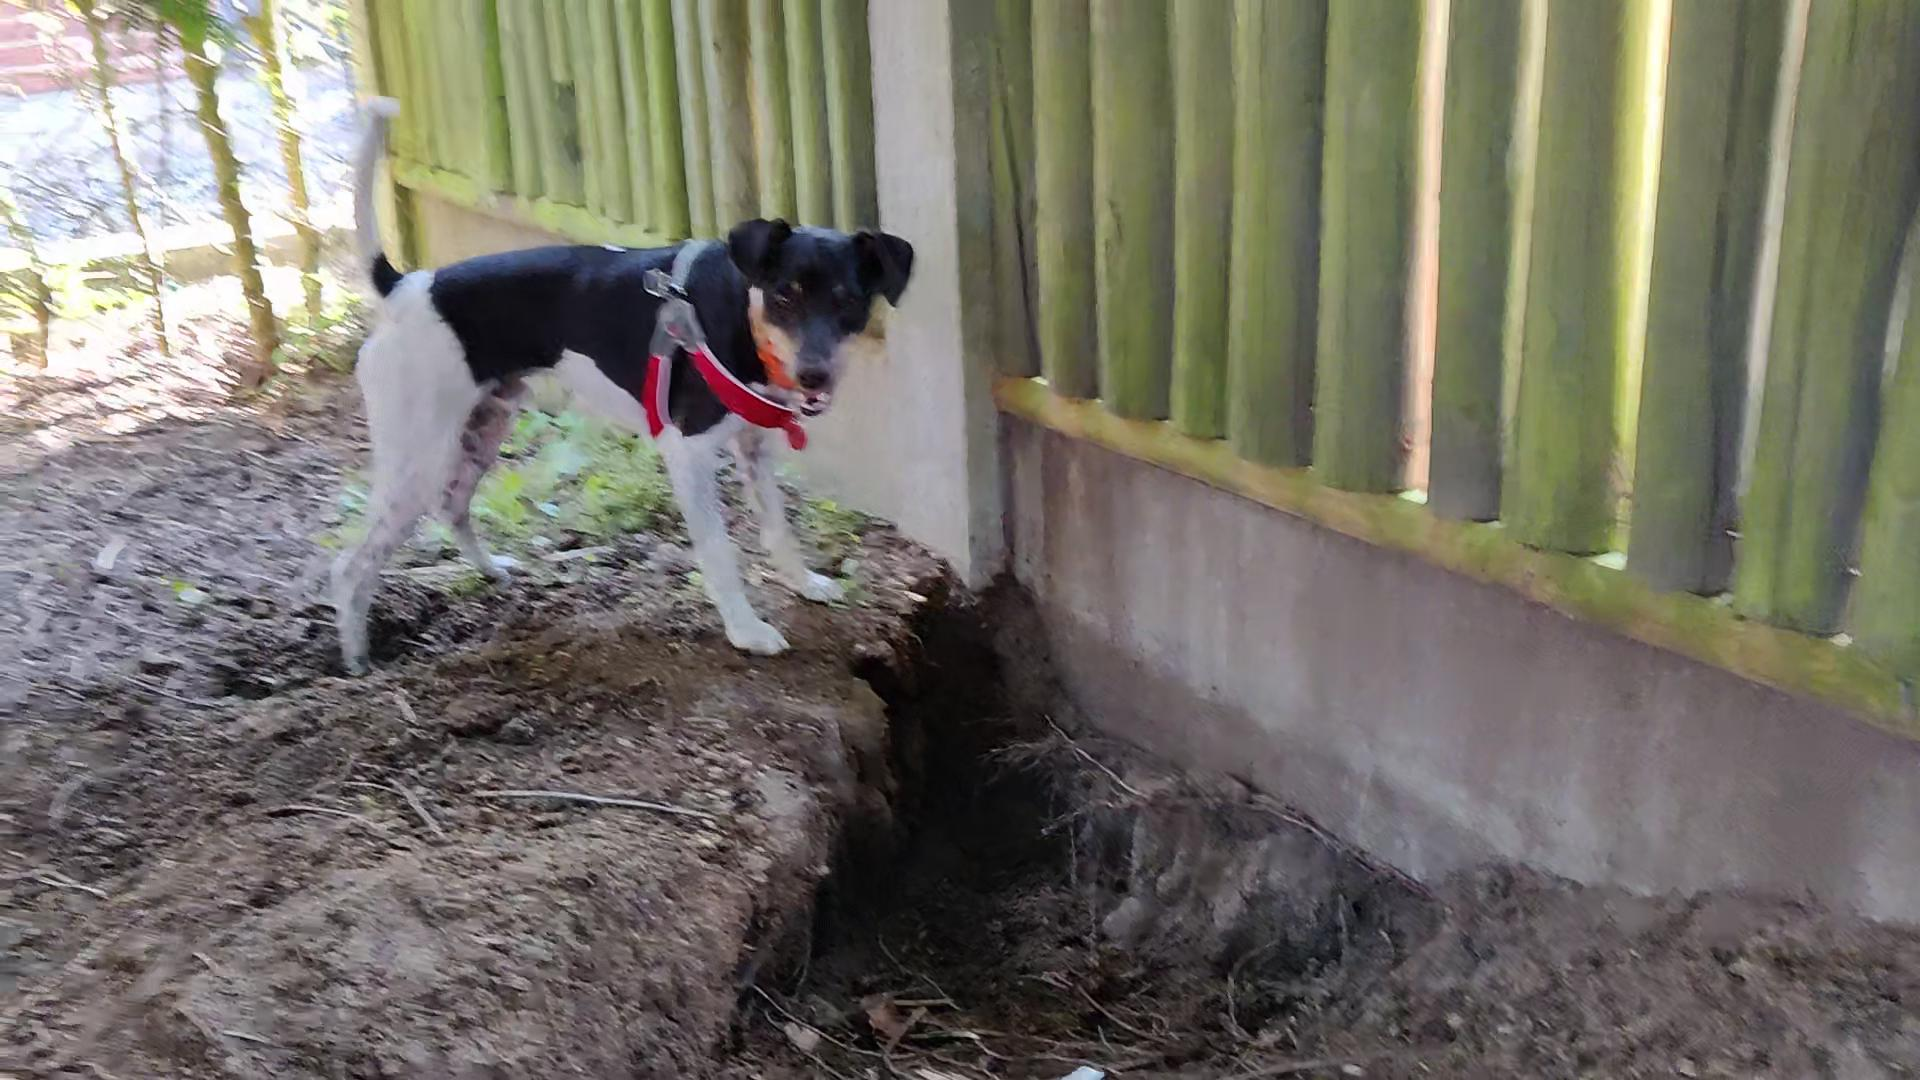Dog: (290, 75, 934, 675)
